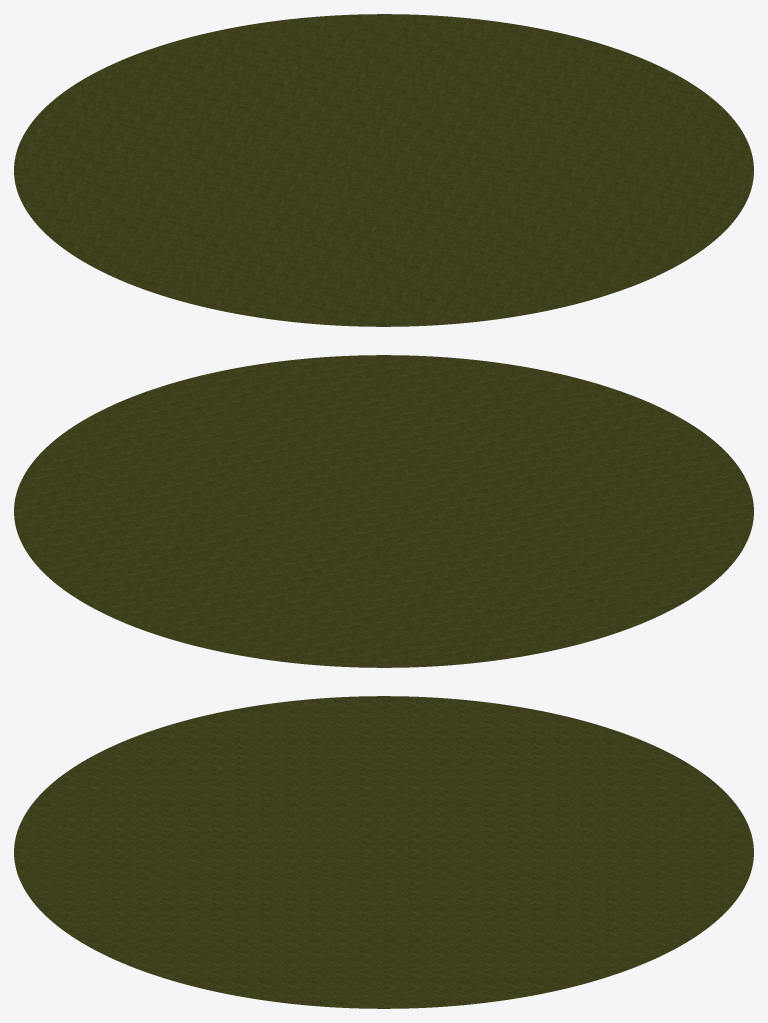
The model's file is grass.glb.
The picture shows the model from 3 angles, top to bottom: view 1: azimuth 30°, elevation 25°; view 2: azimuth 150°, elevation 25°; view 3: azimuth 270°, elevation 25°; orthographic projection.
Visible parts, largest first — view 1: Ground; view 2: Ground; view 3: Ground.
Part boxes in pixels (<box>): Ground: <box>14,14,753,326</box>; Ground: <box>14,355,753,667</box>; Ground: <box>14,696,753,1008</box>.
Bounding box in the file's own units: 141 × 0 × 141.
Materials: 1 (1 with a texture image).
